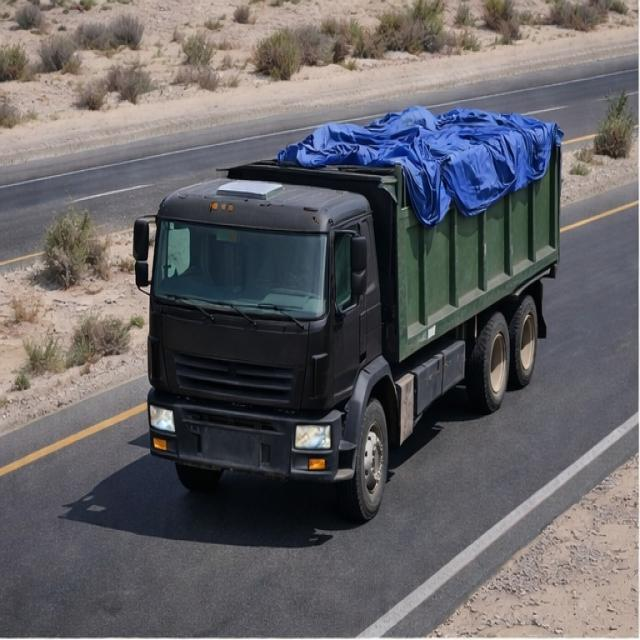Box: (211, 104, 558, 178)
Truck: (129, 86, 575, 518)
